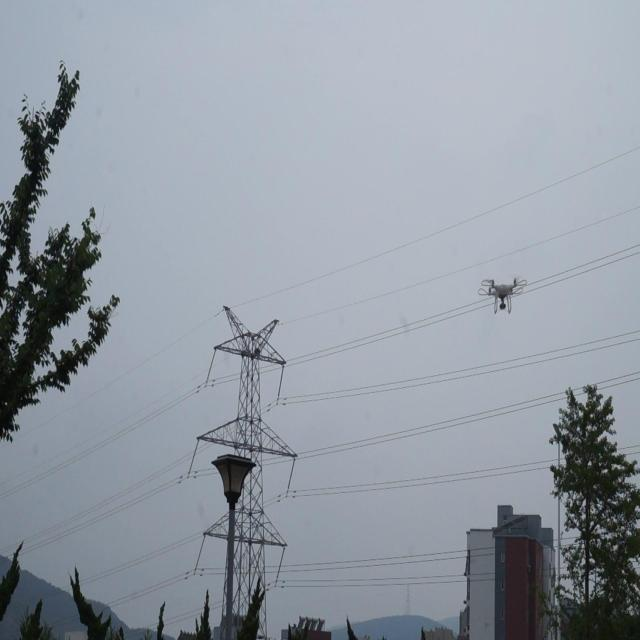drone: (476, 276, 529, 315)
